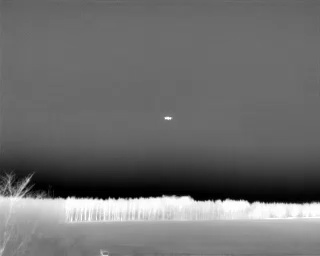DRONE: (161, 112, 176, 125)
